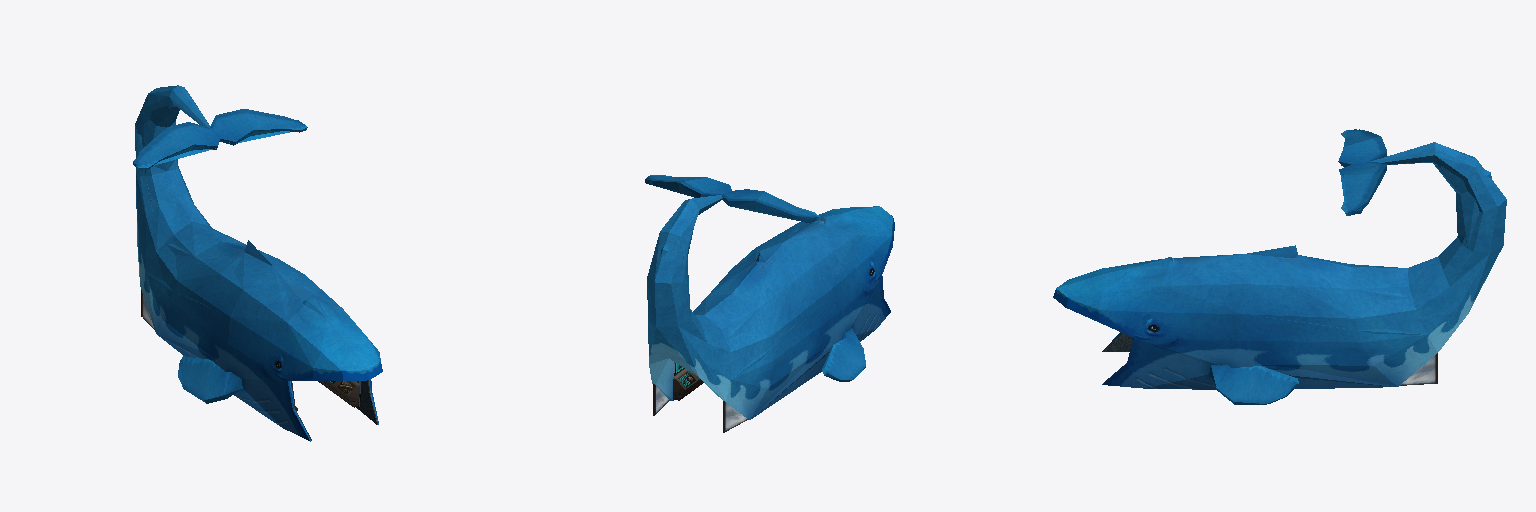
3 views of the same model, side by side, from view 1: azimuth 30°, elevation 25°; view 2: azimuth 150°, elevation 25°; view 3: azimuth 270°, elevation 25° (orthographic).
Visible parts, largest first — view 1: Whale:0, whale01:0; view 2: Whale:0, whale01:0, Whale:1; view 3: Whale:0, whale01:0, Whale:1.
Boxes of the visible parts, x1=… form: Whale:0: x1=135, y1=85, x2=382, y2=441; whale01:0: x1=133, y1=105, x2=382, y2=424; Whale:0: x1=647, y1=175, x2=894, y2=432; whale01:0: x1=645, y1=178, x2=881, y2=418; Whale:1: x1=656, y1=386, x2=748, y2=431; Whale:0: x1=1053, y1=129, x2=1506, y2=404; whale01:0: x1=1053, y1=129, x2=1491, y2=399; Whale:1: x1=1400, y1=355, x2=1435, y2=385.
Bounding box in the file's own units: 9.65 × 12.42 × 22.42.
Materials: 6 (2 with a texture image).